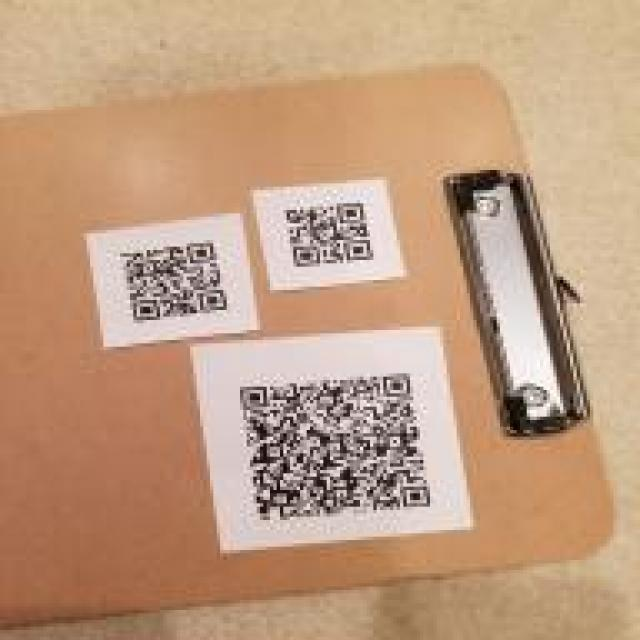qr_code: (239, 373, 431, 521), (120, 242, 228, 321), (284, 203, 374, 268)
